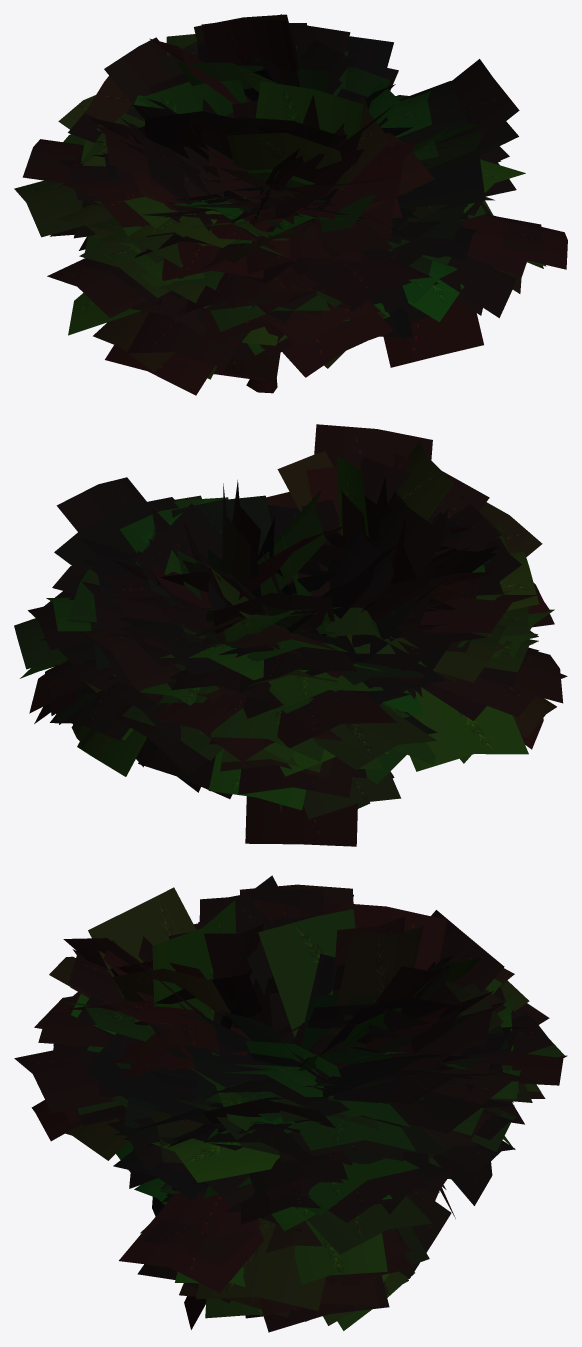
Rendered from veg_tamarind2_far.glb.
3 views of the same model, one above another, from view 1: azimuth 30°, elevation 25°; view 2: azimuth 150°, elevation 25°; view 3: azimuth 270°, elevation 25° (orthographic). The views are drawn at different scales.
Parts seen in each view (by area): view 1: tamarind_2; view 2: tamarind_2; view 3: tamarind_2.
Boxes of the visible parts, x1=… form: tamarind_2: x1=14, y1=14, x2=567, y2=395; tamarind_2: x1=14, y1=424, x2=567, y2=846; tamarind_2: x1=14, y1=875, x2=567, y2=1332.
Bounding box in the file's own units: 22.89 × 15.64 × 21.13.
Materials: 2 (2 with a texture image).
